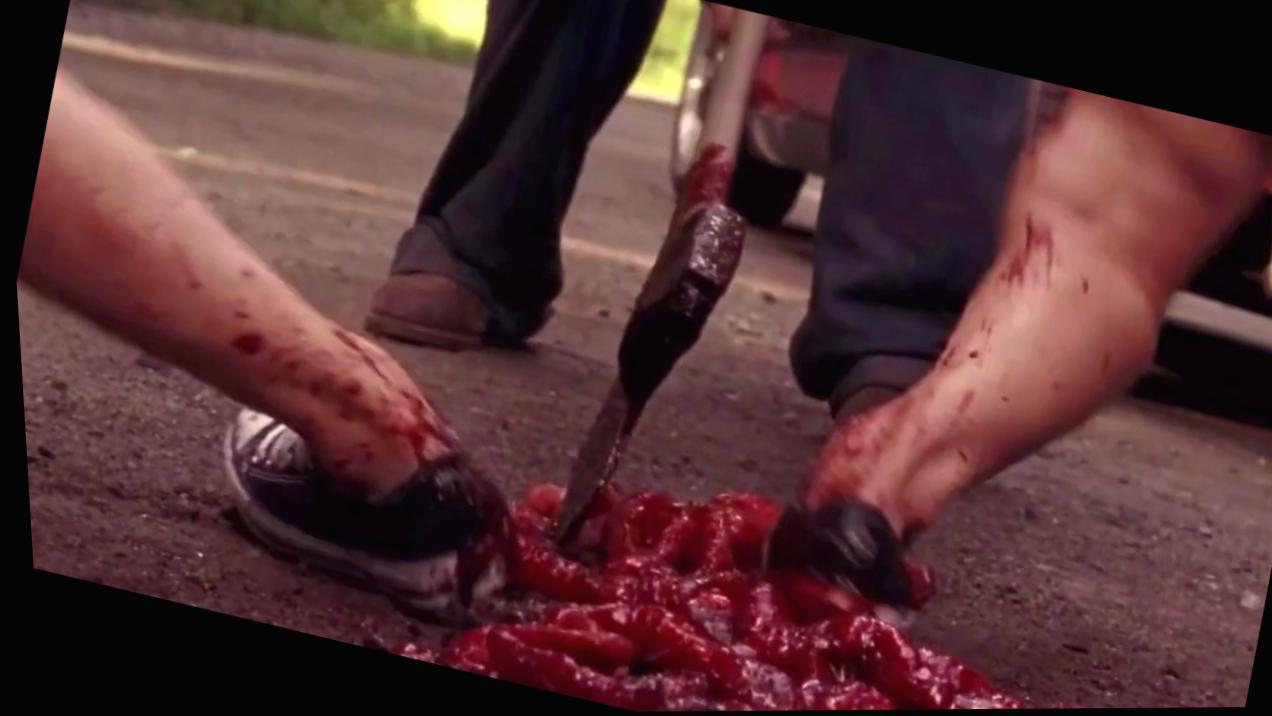Fire: (14, 71, 1115, 713), (516, 483, 559, 521), (382, 644, 432, 666)
